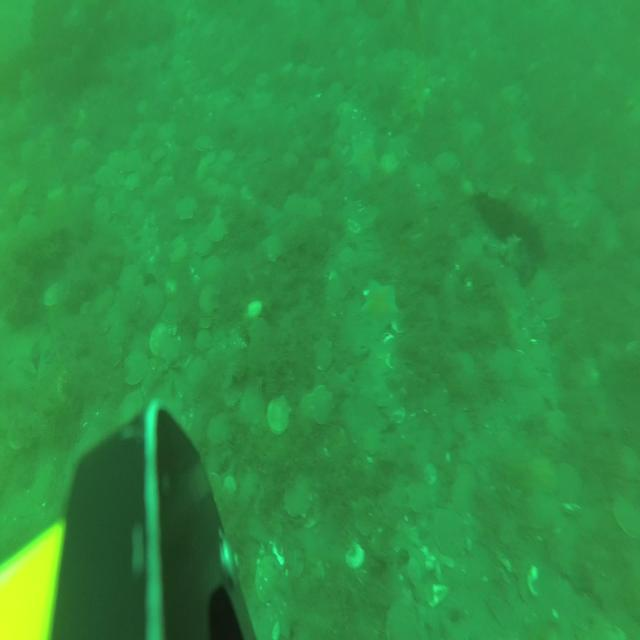scallop: (385, 599, 427, 640), (448, 461, 480, 514), (432, 512, 469, 557), (281, 469, 313, 519), (255, 552, 282, 607), (612, 494, 640, 545), (5, 408, 39, 450), (351, 494, 380, 541), (237, 384, 267, 428), (240, 471, 265, 521), (556, 462, 584, 506), (120, 349, 150, 387), (32, 462, 56, 507), (312, 383, 335, 427), (207, 410, 233, 448), (312, 331, 336, 372), (140, 282, 166, 319), (616, 442, 640, 482), (267, 396, 291, 435), (491, 345, 516, 382), (116, 390, 144, 422), (452, 348, 477, 383), (532, 456, 555, 494), (92, 280, 116, 316), (433, 146, 459, 179), (298, 392, 317, 436), (118, 264, 144, 296), (198, 284, 222, 318), (407, 482, 432, 514), (187, 355, 209, 391), (262, 231, 284, 265), (532, 267, 552, 302), (148, 323, 168, 358), (247, 314, 270, 344), (42, 281, 66, 309), (202, 254, 226, 282), (162, 335, 182, 368), (175, 193, 198, 220), (539, 294, 561, 322), (207, 213, 228, 242), (168, 234, 189, 263), (284, 191, 306, 218), (220, 380, 242, 407), (379, 151, 401, 176), (96, 165, 118, 190), (240, 182, 261, 208), (156, 118, 178, 142), (194, 230, 214, 256), (306, 196, 324, 222), (9, 176, 30, 198), (18, 212, 38, 235), (70, 134, 92, 154), (194, 330, 213, 352), (328, 81, 346, 104), (281, 149, 298, 173), (130, 197, 146, 222), (253, 69, 271, 91), (217, 181, 236, 201), (94, 194, 110, 217), (195, 133, 214, 152), (149, 144, 167, 164), (296, 62, 312, 84), (221, 59, 238, 79), (125, 173, 141, 194), (170, 51, 185, 73), (290, 133, 306, 153), (195, 159, 209, 181), (220, 146, 236, 165), (338, 97, 352, 118), (314, 154, 328, 174), (204, 174, 216, 196), (136, 97, 148, 117), (199, 316, 214, 330)
starfish: (360, 277, 400, 336), (348, 133, 379, 184)
